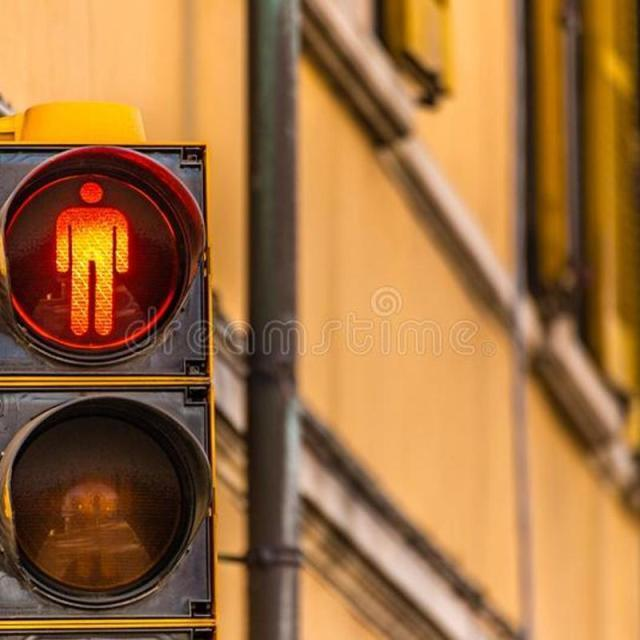red-crossing: (39, 175, 140, 348)
